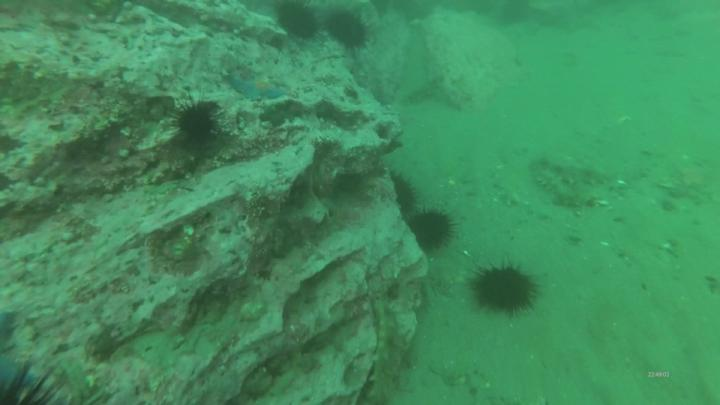echinus: (464, 256, 544, 319), (1, 351, 79, 405), (167, 94, 227, 149), (405, 208, 459, 255), (271, 1, 324, 45), (323, 8, 373, 54), (388, 169, 423, 216), (394, 1, 438, 24), (499, 1, 534, 29)
holothurian: (536, 147, 620, 191), (530, 163, 588, 213)
starfish: (230, 76, 294, 104)
